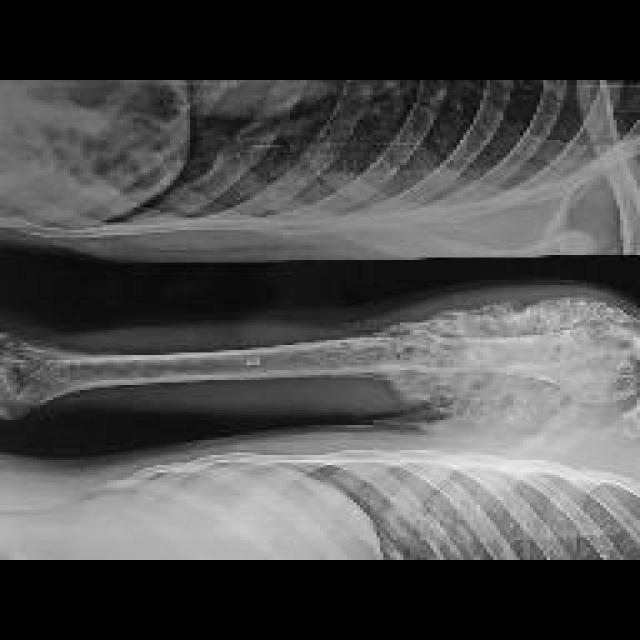bone-cancer: (380, 298, 638, 419)
